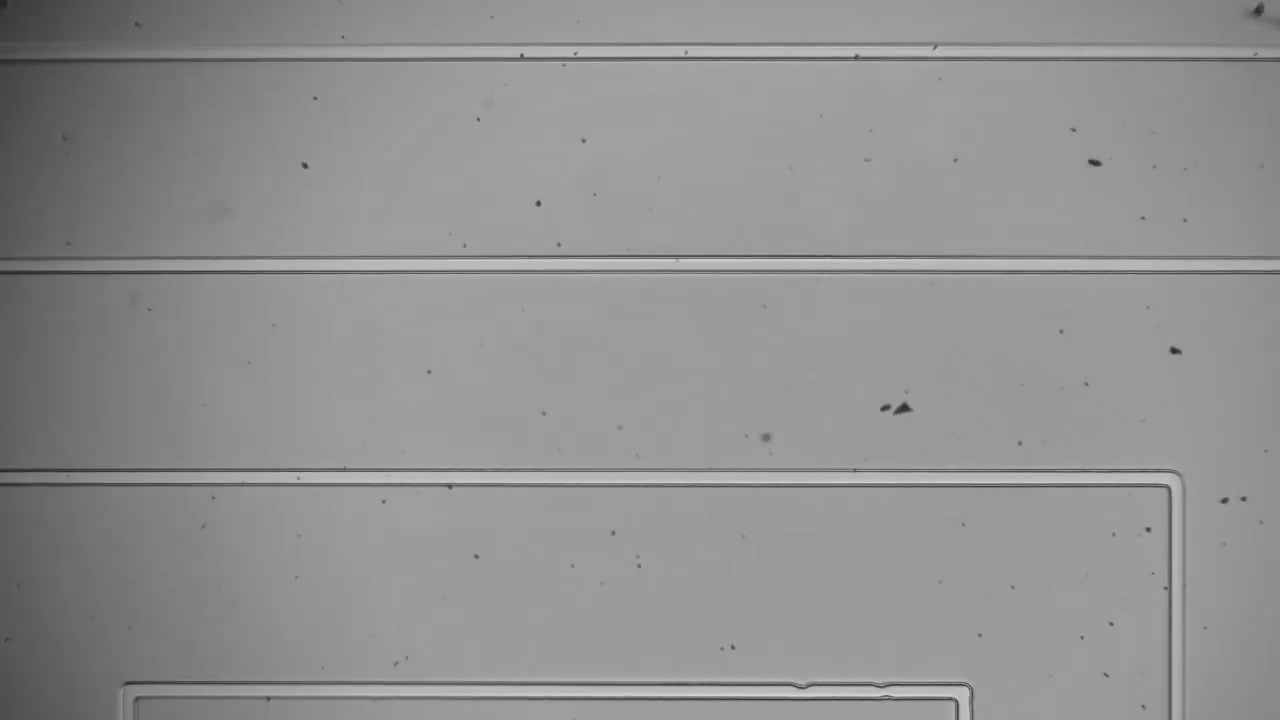edge_bite: (781, 673, 822, 705), (866, 676, 906, 707)
